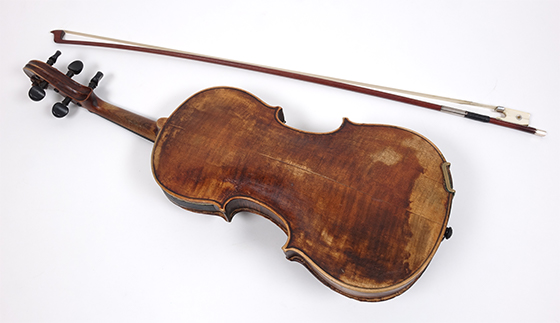Fiddle: (25, 21, 550, 288)
